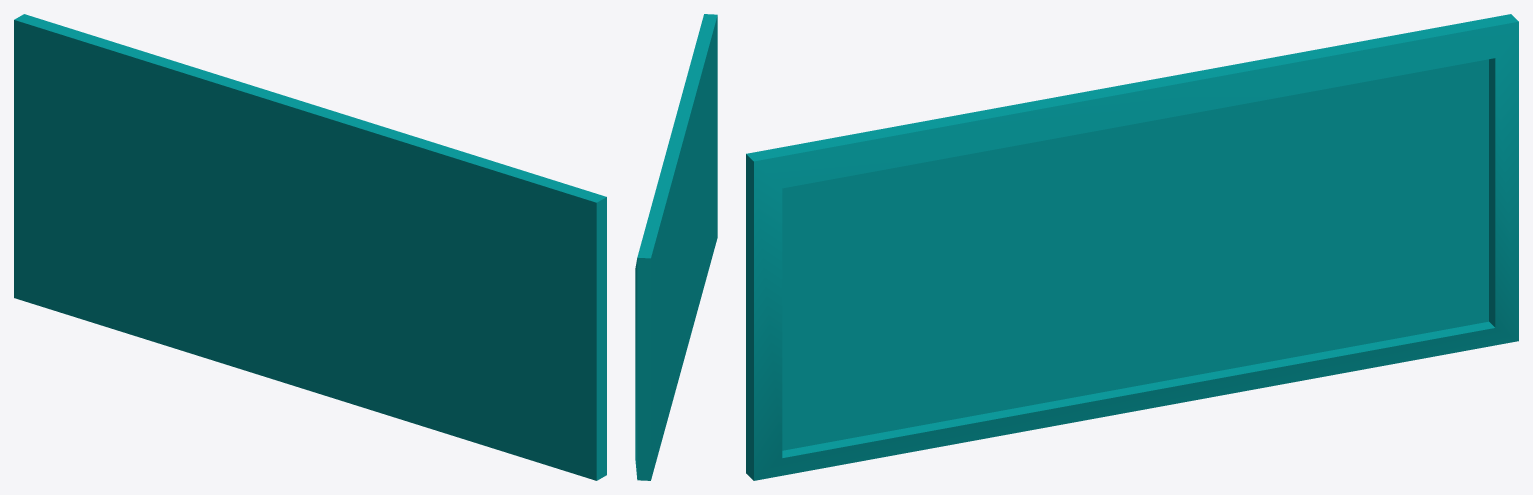
The model's file is surgery_moniter_flap.fbx.
3 views of the same model, side by side, from view 1: azimuth 30°, elevation 25°; view 2: azimuth 150°, elevation 25°; view 3: azimuth 270°, elevation 25° (orthographic). The views are drawn at different scales.
Parts seen in each view (by area): view 1: small_monitor4; view 2: small_monitor4; view 3: small_monitor4.
Boxes of the visible parts, <box> form: small_monitor4: <box>14,14,606,480</box>; small_monitor4: <box>635,14,717,480</box>; small_monitor4: <box>746,14,1518,480</box>.
Size of the model in its own units: 2.74 by 2.77 by 6.07.
